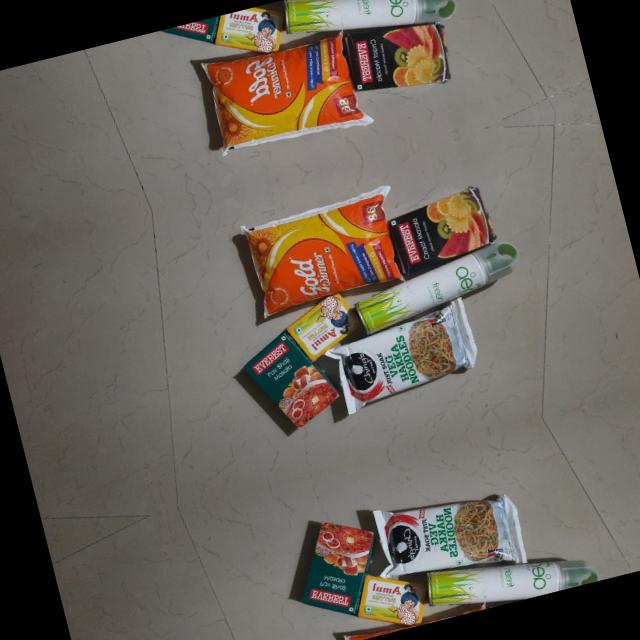Amul Butter: (280, 288, 366, 368), (348, 558, 432, 638), (208, 1, 290, 64)
Chings Secret Veg Hakka Noodles 140 g Pouch: (367, 479, 528, 584), (323, 308, 484, 412)
Everest Chaat Masala 50 g: (342, 3, 457, 101), (388, 184, 502, 282)
Everest Pav Bhaji Masala 100 g: (266, 501, 394, 631), (221, 320, 348, 450), (144, 9, 250, 57)
Godrej Aer Lush Green Fresh Home Fragrance Spray 220 ml: (343, 243, 528, 333), (417, 535, 600, 623), (273, 0, 457, 51)
Gold Oil: (236, 186, 407, 320), (196, 24, 367, 158)
